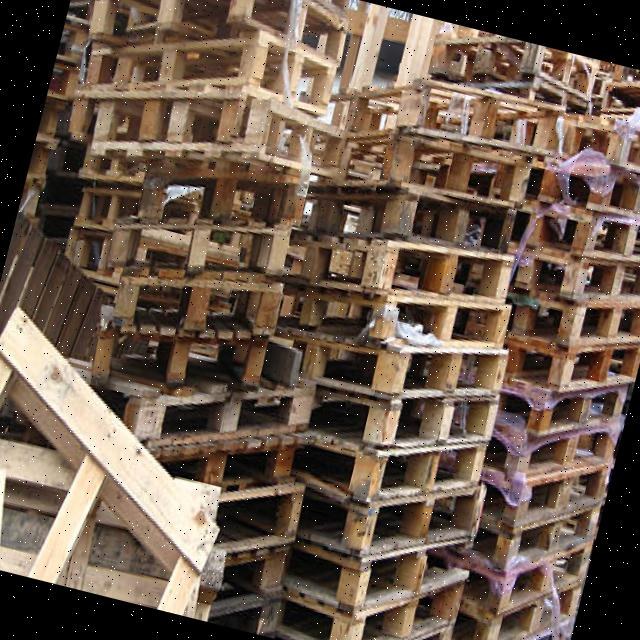Wooden-Pallets: (80, 25, 345, 117), (298, 329, 509, 398), (113, 266, 291, 336), (358, 439, 486, 519), (374, 233, 514, 304), (350, 576, 464, 640), (564, 301, 640, 347), (612, 121, 640, 178)
